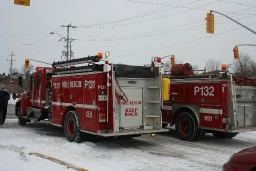truck: (12, 59, 169, 141), (158, 57, 256, 144)
